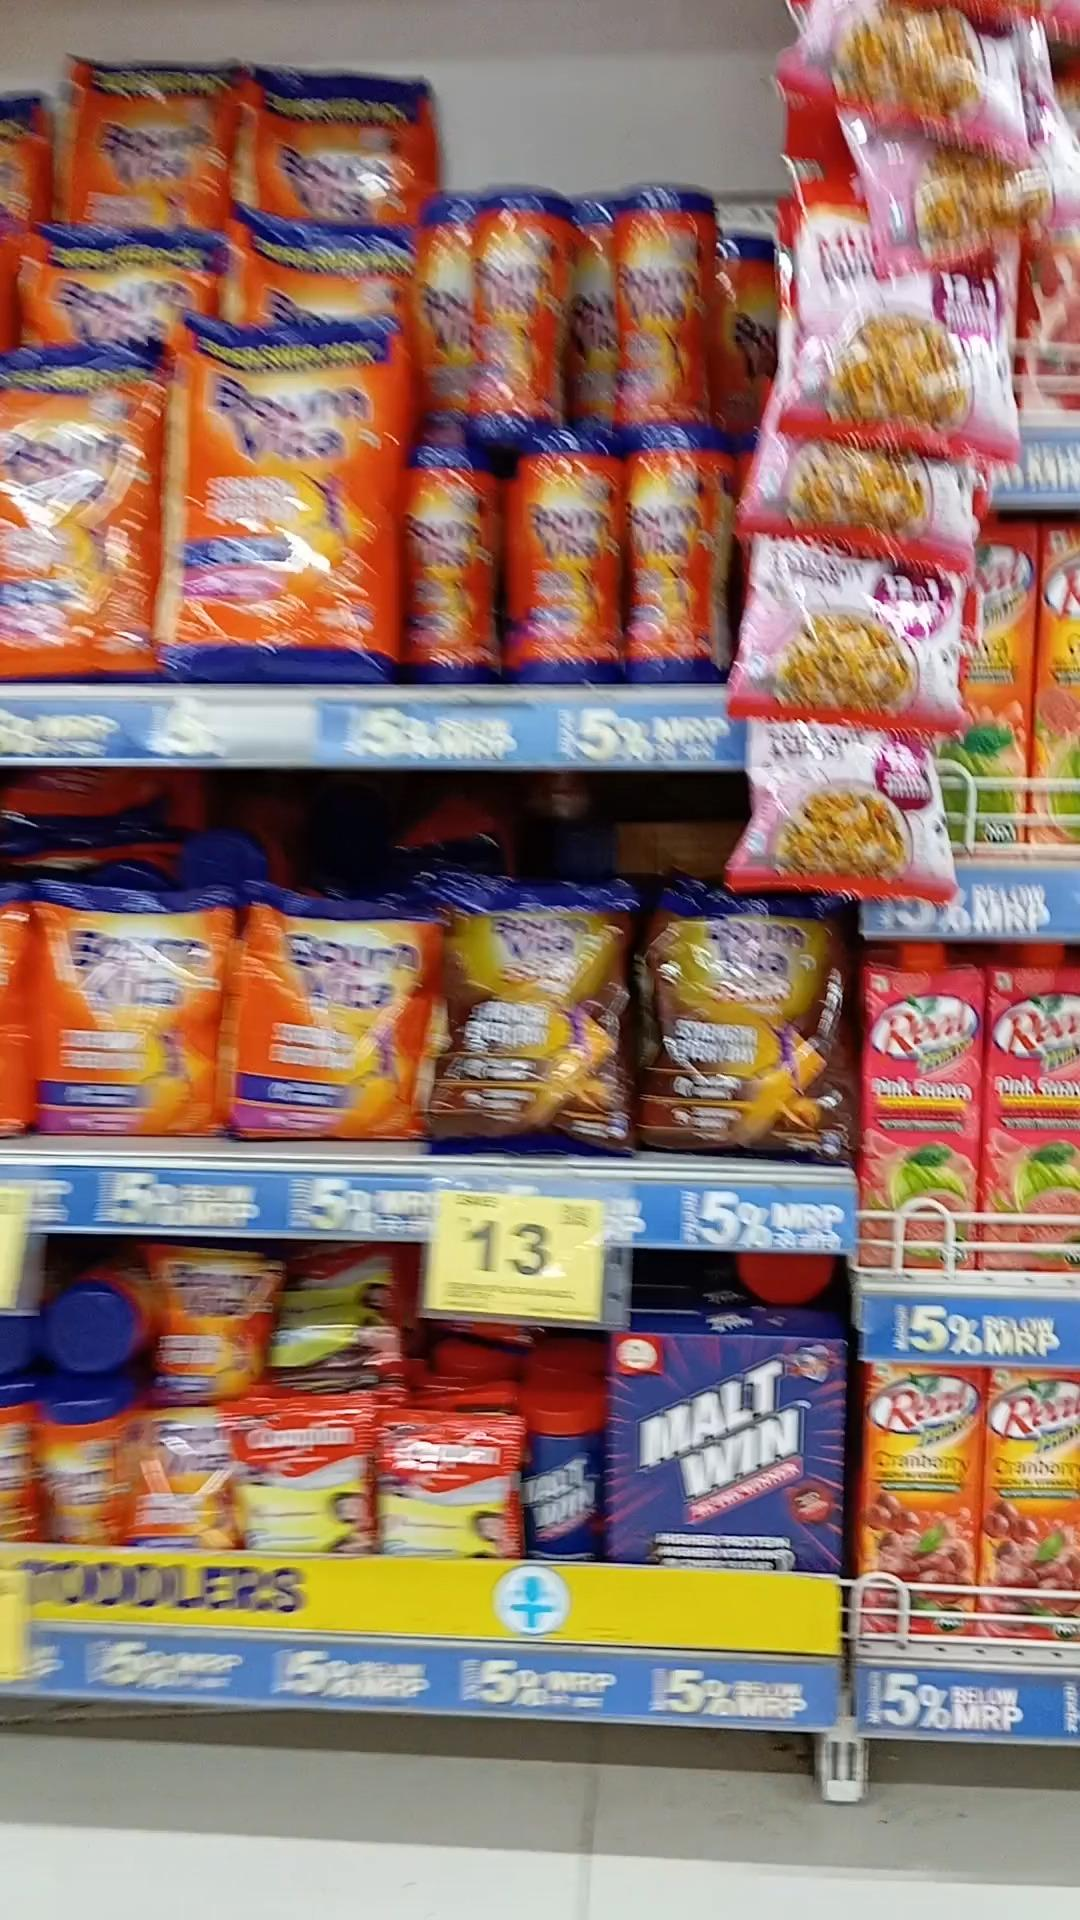BOURN_VITA_500_G_POUCH: (231, 884, 425, 1141), (44, 878, 224, 1137)
BOURN_VITA_FIVE_STAR_MAGIC_500_G_POUCH: (638, 878, 852, 1160), (440, 873, 628, 1158)
